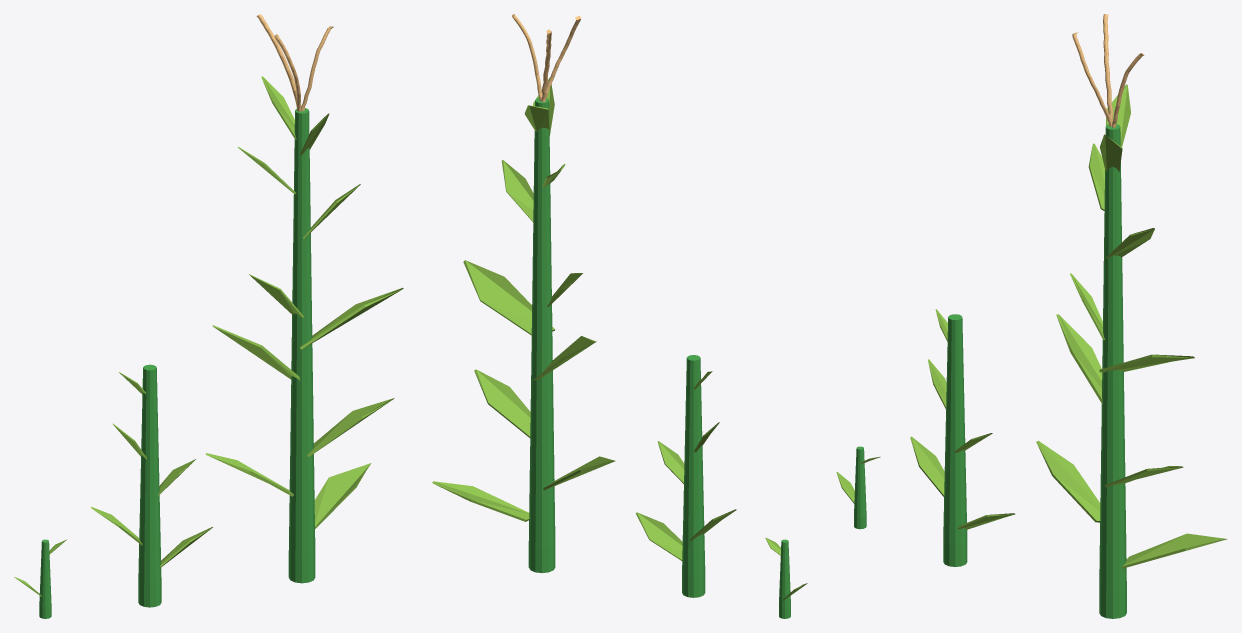
Rendered from corn.glb.
3 renders of one model, left to right at view 1: azimuth 30°, elevation 25°; view 2: azimuth 150°, elevation 25°; view 3: azimuth 330°, elevation 25°, orthographic. The views are drawn at different scales.
Visible parts, largest first — view 1: group2142070096, group853625160, group1432131122, group2120562891, group1285484189, group847879392, group393945023, group1561864237, group258250155; view 2: group2142070096, group853625160, group1285484189, group2120562891, group1432131122, group63956163, group322829426, group393945023, group847879392, group258250155, group2130288359; view 3: group2142070096, group853625160, group258250155, group847879392, group1432131122, group393945023, group1737802567, group1285484189, group1931143251, group1561864237, group877222481, group63956163 (+2 smaller).
Part boxes in pixels (left/top/right/bottom): group2142070096: left=288, top=108, right=315, bottom=583; group853625160: left=138, top=364, right=161, bottom=607; group1432131122: left=314, top=463, right=371, bottom=528; group2120562891: left=307, top=398, right=394, bottom=456; group1285484189: left=300, top=287, right=403, bottom=349; group847879392: left=212, top=325, right=300, bottom=380; group393945023: left=39, top=539, right=51, bottom=618; group1561864237: left=261, top=76, right=296, bottom=139; group258250155: left=205, top=453, right=293, bottom=496; group2142070096: left=528, top=97, right=555, bottom=572; group853625160: left=682, top=355, right=705, bottom=597; group1285484189: left=463, top=260, right=554, bottom=335; group2120562891: left=474, top=369, right=530, bottom=437; group1432131122: left=432, top=481, right=529, bottom=521; group63956163: left=501, top=160, right=533, bottom=222; group322829426: left=636, top=512, right=682, bottom=560; group393945023: left=779, top=539, right=790, bottom=618; group847879392: left=531, top=336, right=596, bottom=381; group258250155: left=543, top=456, right=615, bottom=490; group2130288359: left=657, top=441, right=684, bottom=483; group2142070096: left=1099, top=124, right=1126, bottom=618; group853625160: left=943, top=314, right=967, bottom=566; group258250155: left=1036, top=440, right=1100, bottom=522; group847879392: left=1056, top=314, right=1102, bottom=404; group1432131122: left=1121, top=533, right=1226, bottom=568; group393945023: left=854, top=446, right=866, bottom=529; group1737802567: left=910, top=436, right=944, bottom=496; group1285484189: left=1099, top=354, right=1194, bottom=372; group1931143251: left=1088, top=143, right=1104, bottom=210; group1561864237: left=1106, top=84, right=1130, bottom=146; group877222481: left=1100, top=134, right=1122, bottom=172; group63956163: left=1105, top=228, right=1154, bottom=259.
Bounding box in the file's own units: 1.27 × 1.85 × 0.2663.
